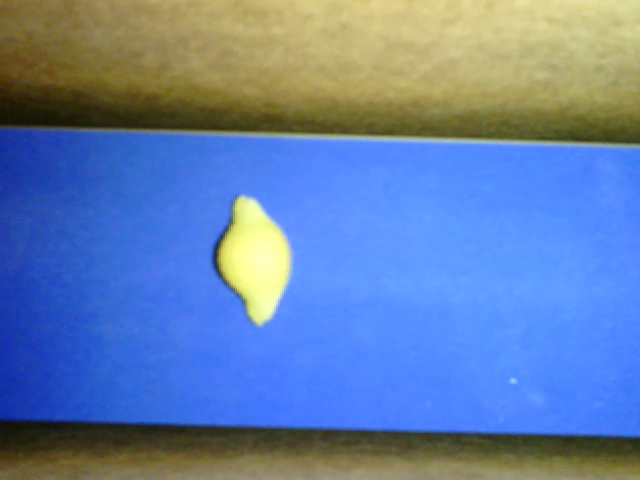shell: (214, 194, 292, 326)
